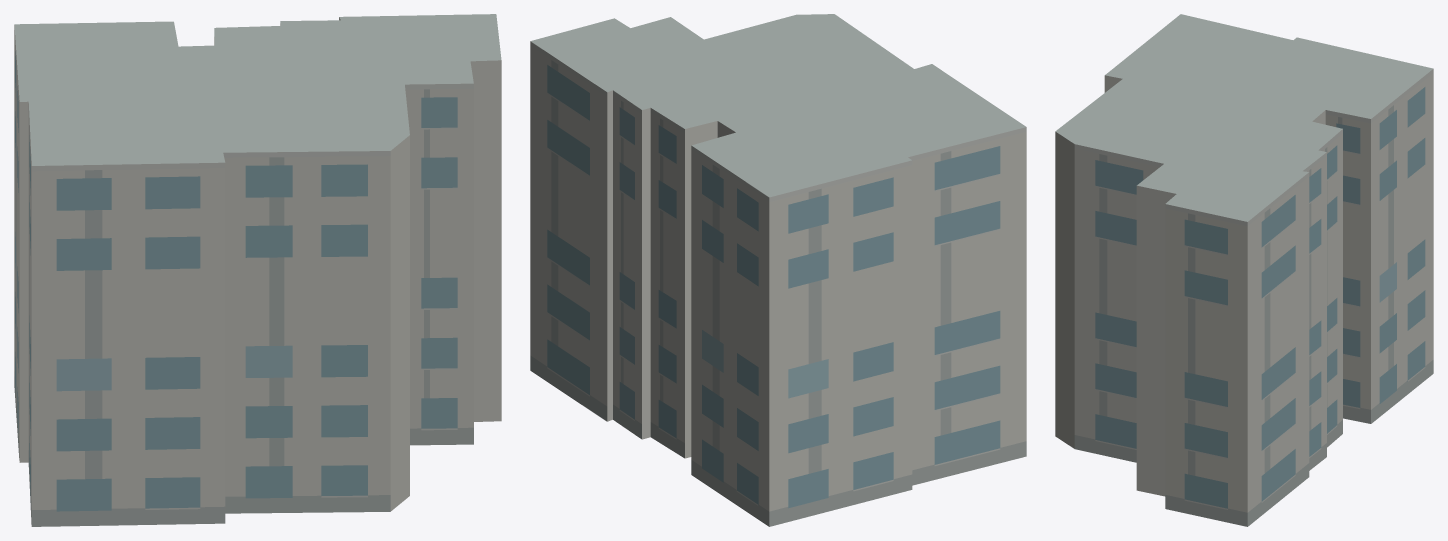
Rendered from survey-upis-32668824.glb.
3 views of the same model, side by side, from view 1: azimuth 30°, elevation 25°; view 2: azimuth 150°, elevation 25°; view 3: azimuth 270°, elevation 25° (orthographic). The views are drawn at different scales.
Visible parts, largest first — view 1: survey-upis-32668824.tmp; view 2: survey-upis-32668824.tmp; view 3: survey-upis-32668824.tmp.
Boxes of the visible parts, x1,y1,x2,y2 form: survey-upis-32668824.tmp: (14,14,501,526); survey-upis-32668824.tmp: (530,14,1026,526); survey-upis-32668824.tmp: (1055,14,1433,526).
Bounding box in the file's own units: 24.72 × 16.9 × 19.01.
